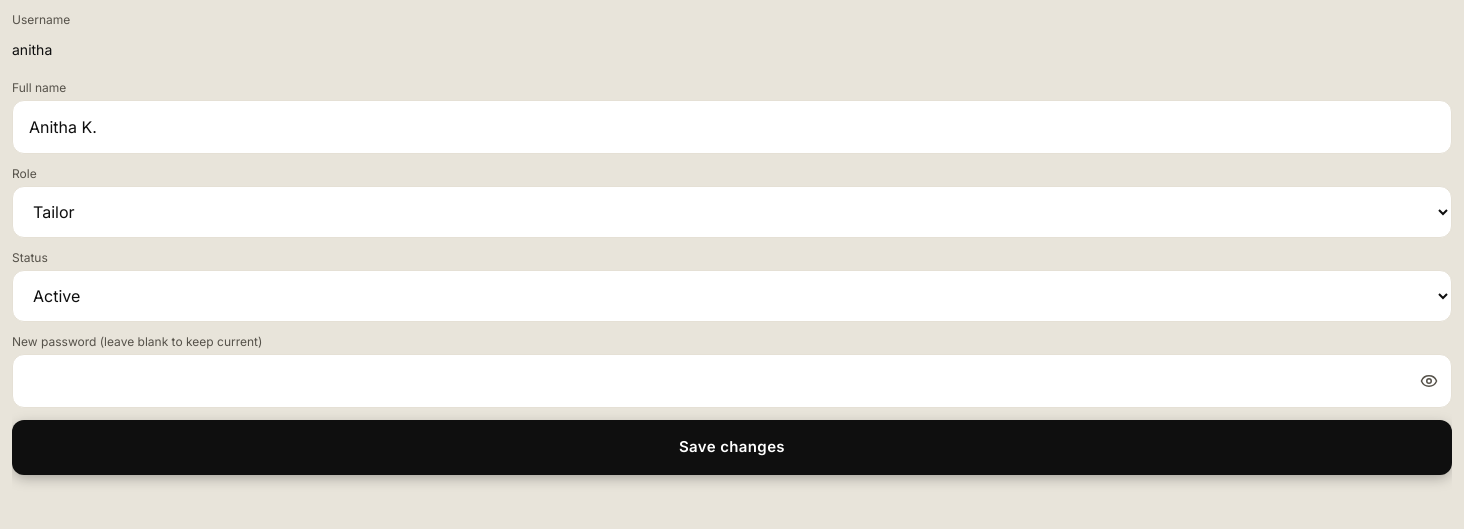
Test case: EditStaffForm › shows a server-returned error
Step 1. Click the button "Save changes" → click(732, 447), box [12, 420, 1452, 474]
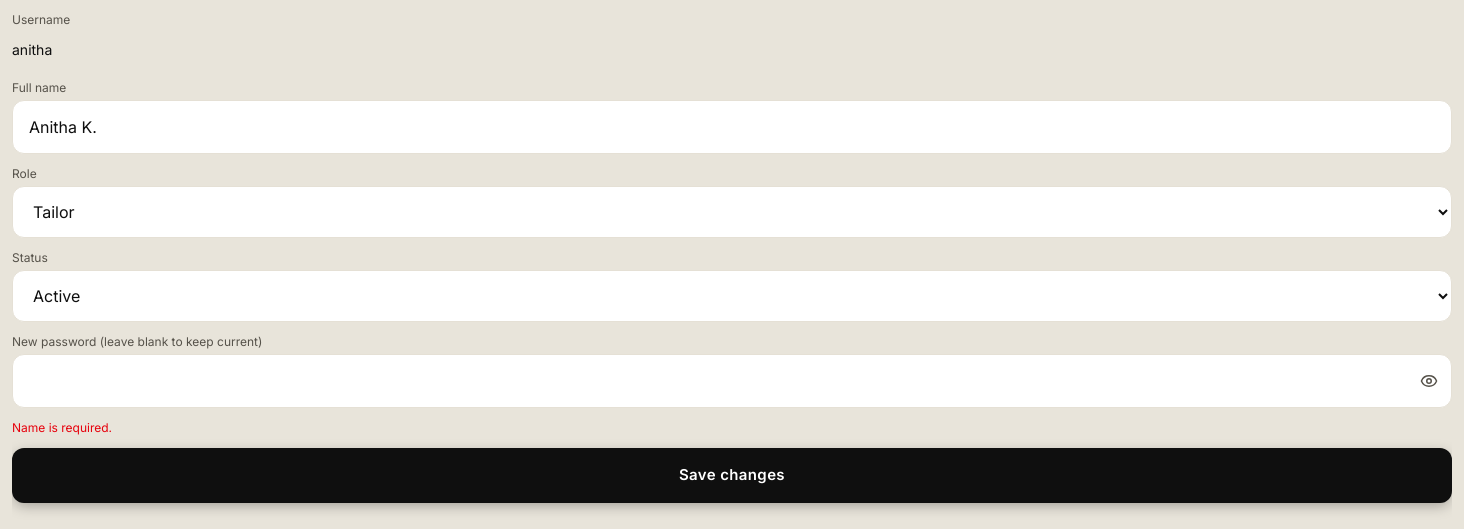
Result: the text "Name is required." is shown at [12, 420, 112, 435]
